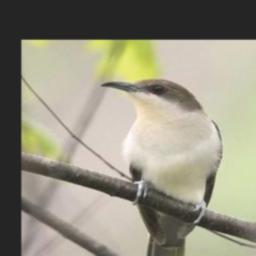Cuckoo: (99, 77, 224, 256)
